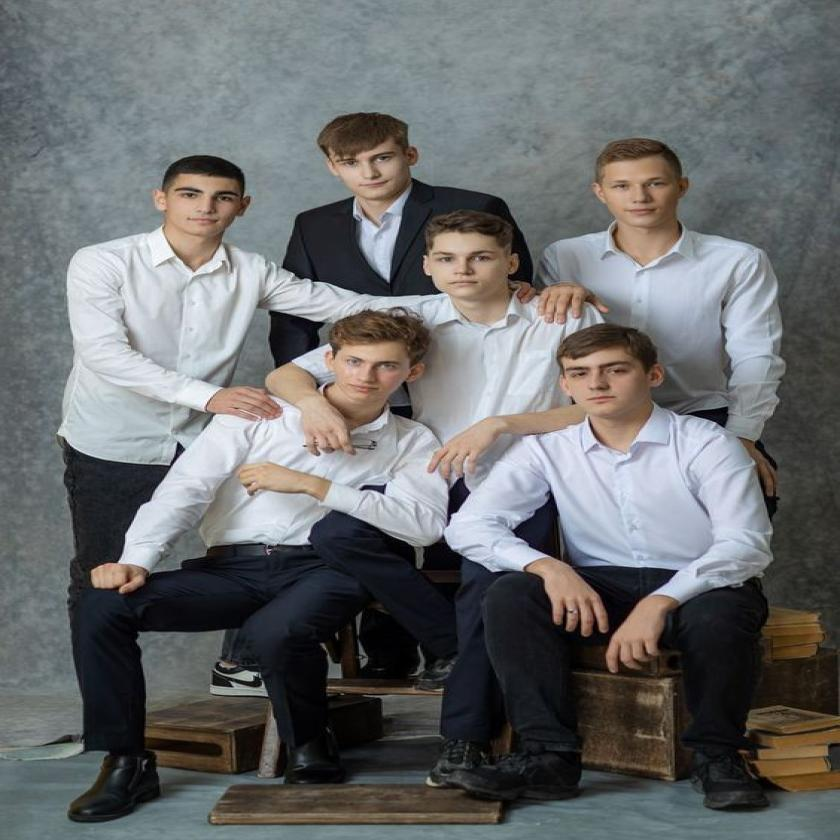Sin_casco: (546, 322, 659, 426), (322, 311, 434, 411), (586, 134, 691, 238), (311, 111, 419, 210), (156, 155, 257, 253), (421, 207, 514, 312)
